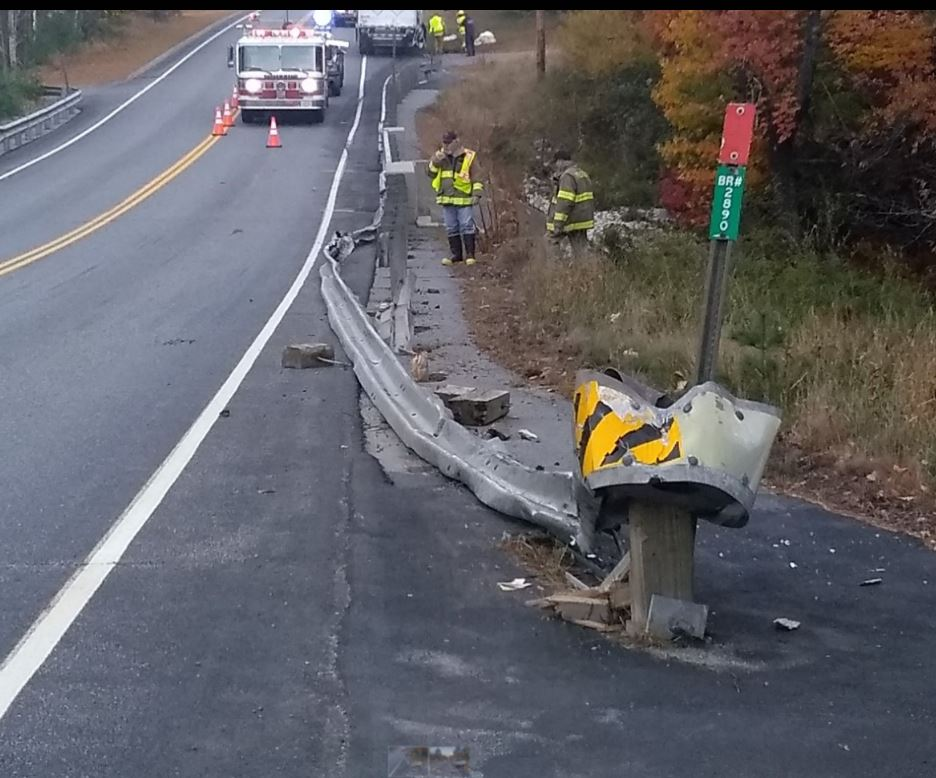damaged: (307, 213, 765, 582)
